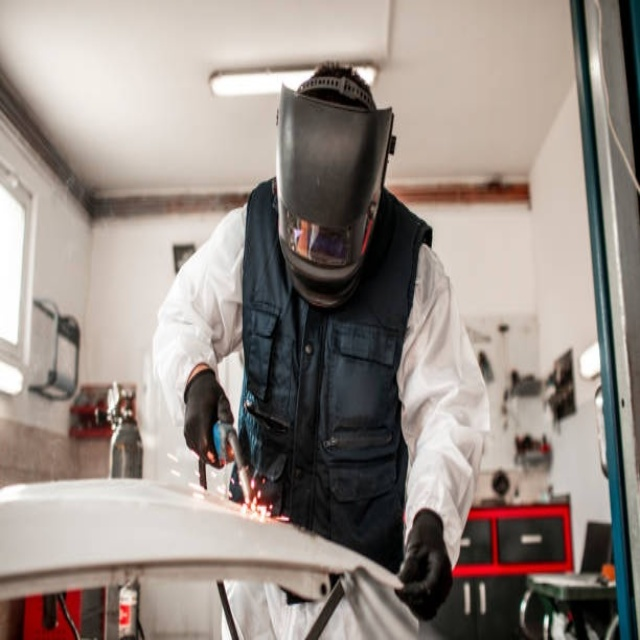Guantes: (394, 507, 454, 621), (183, 368, 236, 473)
